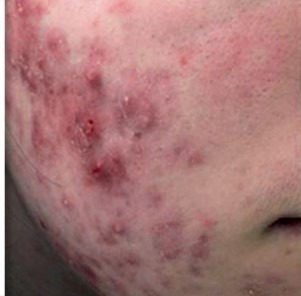Acne: (12, 19, 201, 284)
